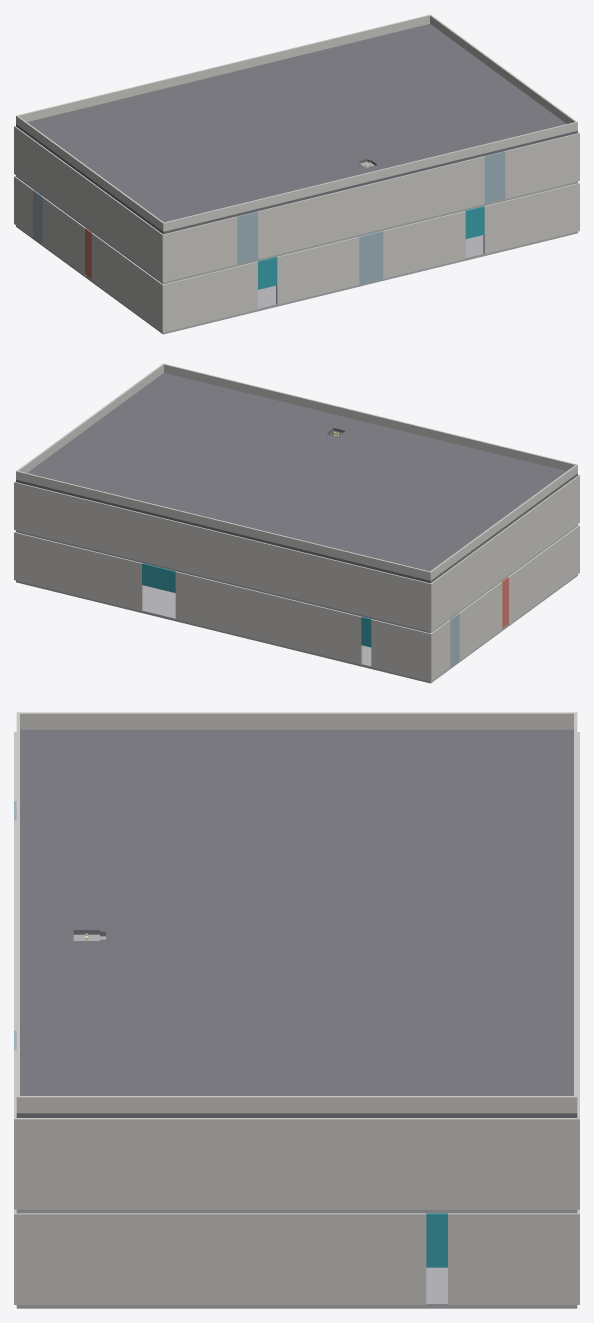
Rendered from arena_a03.glb.
The picture shows the model from 3 angles, top to bottom: view 1: azimuth 30°, elevation 25°; view 2: azimuth 150°, elevation 25°; view 3: azimuth 270°, elevation 25°; orthographic projection. The views are drawn at different scales.
Parts seen in each view (by area): view 1: ext_0_S_seg6, ext_0_S_seg18, ext_0_S_seg12, ext_0_S_seg22, ext_1_S_seg13, ext_1_S_seg16, ext_1_S_seg18, ext_1_S_seg23, ext_0_S_seg19, ext_0_S_seg21, ext_0_S_seg14, ext_1_S_seg14 (+146 smaller); view 2: ext_0_N_seg4, ext_0_N_seg16, ext_0_N_seg5, ext_0_N_seg8, ext_0_N_seg19, ext_0_N_seg22, ext_1_N_seg9, ext_1_N_seg14, ext_1_N_seg17, ext_0_N_seg6, ext_0_N_seg7, ext_0_N_seg10 (+146 smaller); view 3: ext_0_E_seg0, ext_0_E_seg1, ext_0_E_seg2, ext_0_E_seg3, ext_0_E_seg4, ext_0_E_seg5, ext_0_E_seg6, ext_0_E_seg7, ext_0_E_seg8, ext_0_E_seg9, ext_0_E_seg10, ext_0_E_seg12 (+113 smaller).
Part boxes in pixels (left/top/right/bottom): ext_0_S_seg6: left=276, top=253, right=293, bottom=304; ext_0_S_seg18: left=483, top=202, right=500, bottom=254; ext_0_S_seg12: left=383, top=227, right=399, bottom=278; ext_0_S_seg22: left=548, top=186, right=564, bottom=238; ext_1_S_seg13: left=385, top=176, right=401, bottom=228; ext_1_S_seg16: left=433, top=164, right=449, bottom=216; ext_1_S_seg18: left=465, top=157, right=481, bottom=208; ext_1_S_seg23: left=553, top=135, right=569, bottom=187; ext_0_S_seg19: left=500, top=198, right=516, bottom=250; ext_0_S_seg21: left=532, top=190, right=548, bottom=242; ext_0_S_seg14: left=415, top=219, right=431, bottom=270; ext_1_S_seg14: left=401, top=172, right=417, bottom=224; ext_0_N_seg4: left=345, top=613, right=362, bottom=664; ext_0_N_seg16: left=126, top=559, right=143, bottom=611; ext_0_N_seg5: left=329, top=609, right=345, bottom=660; ext_0_N_seg8: left=281, top=597, right=297, bottom=648; ext_0_N_seg19: left=78, top=547, right=94, bottom=599; ext_0_N_seg22: left=30, top=536, right=46, bottom=587; ext_1_N_seg9: left=269, top=544, right=285, bottom=595; ext_1_N_seg14: left=189, top=524, right=205, bottom=576; ext_1_N_seg17: left=141, top=513, right=157, bottom=564; ext_0_N_seg6: left=313, top=605, right=329, bottom=656; ext_0_N_seg7: left=297, top=601, right=313, bottom=652; ext_0_N_seg10: left=249, top=589, right=265, bottom=641; ext_0_E_seg0: left=19, top=1213, right=54, bottom=1304; ext_0_E_seg1: left=54, top=1213, right=89, bottom=1304; ext_0_E_seg2: left=89, top=1213, right=124, bottom=1304; ext_0_E_seg3: left=124, top=1213, right=159, bottom=1304; ext_0_E_seg4: left=159, top=1213, right=194, bottom=1304; ext_0_E_seg5: left=194, top=1213, right=229, bottom=1304; ext_0_E_seg6: left=229, top=1213, right=264, bottom=1304; ext_0_E_seg7: left=264, top=1213, right=299, bottom=1304; ext_0_E_seg8: left=299, top=1213, right=334, bottom=1304; ext_0_E_seg9: left=334, top=1213, right=369, bottom=1304; ext_0_E_seg10: left=369, top=1213, right=404, bottom=1304; ext_0_E_seg12: left=448, top=1213, right=483, bottom=1304.
Size of what is drawn, in the model's own units: 52.3 by 13.3 by 32.3.
